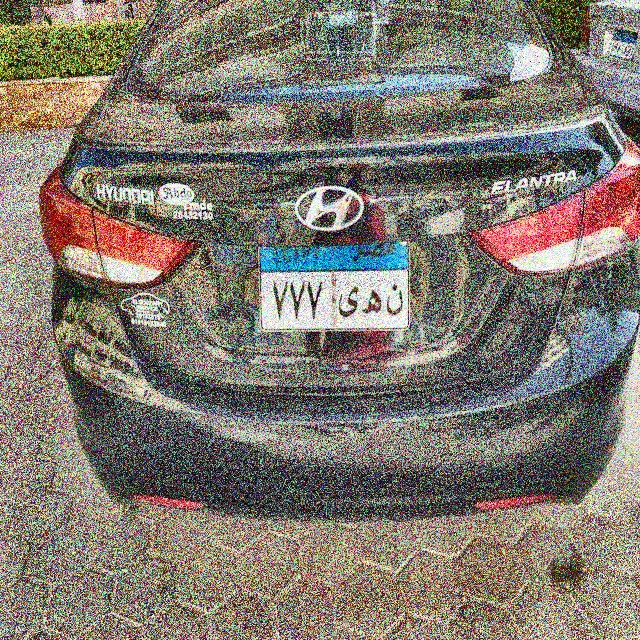License Plate: (255, 238, 414, 337)
